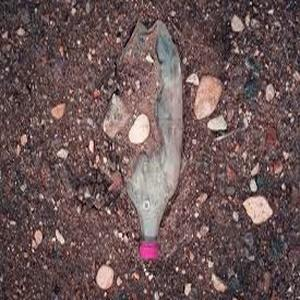Plastic: (118, 20, 181, 264)
